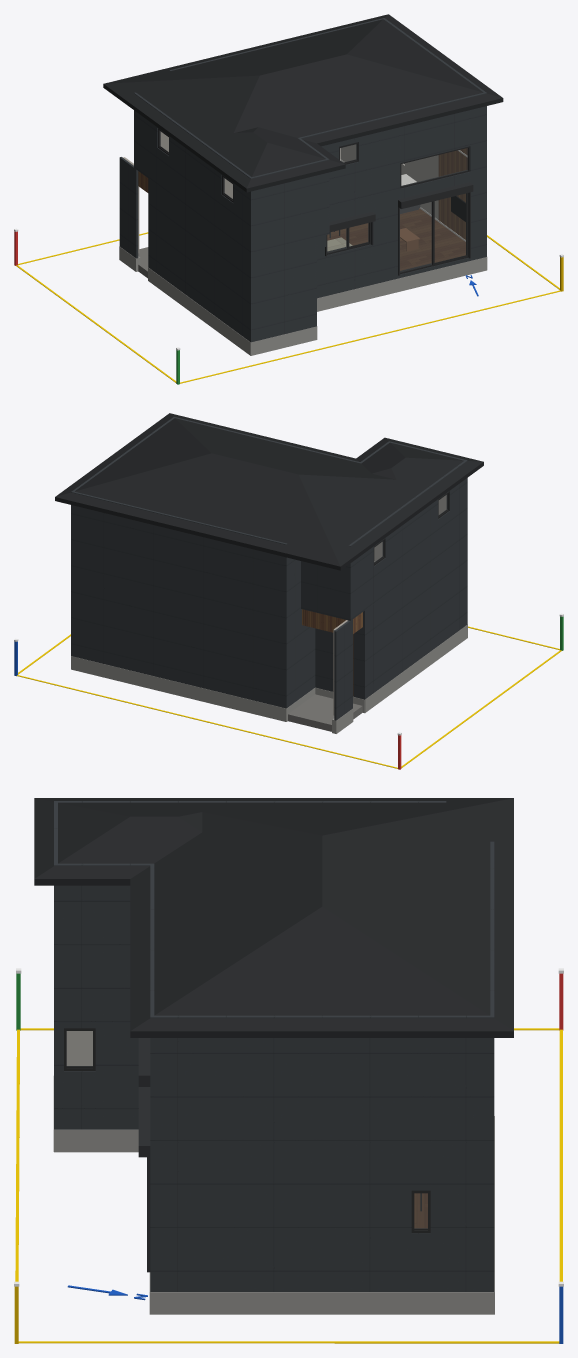
The picture shows the model from 3 angles, top to bottom: view 1: azimuth 30°, elevation 25°; view 2: azimuth 150°, elevation 25°; view 3: azimuth 270°, elevation 25°; orthographic projection. The views are drawn at different scales.
Parts seen in each view (by area): view 1: siding, roof, glass, found, floor, frame, shutter, wall, lotline, accent; view 2: siding, roof, found, lotline, tile, woodceil, wall; view 3: siding, roof, found, lotline, shutter, glass, wall, frame.
Part boxes in pixels (x1,y1,x2,y2): siding: (119, 18, 486, 342); roof: (103, 14, 503, 192); glass: (160, 132, 467, 271); found: (119, 246, 487, 355); floor: (327, 208, 465, 270); frame: (158, 128, 469, 274); shutter: (325, 182, 473, 275); wall: (123, 131, 438, 253); lotline: (16, 232, 560, 383); accent: (438, 148, 467, 239); siding: (71, 417, 467, 720); roof: (55, 413, 483, 570); found: (71, 624, 467, 733); lotline: (17, 626, 561, 768); tile: (288, 694, 362, 731); woodceil: (302, 609, 362, 633); wall: (333, 495, 446, 715); siding: (54, 801, 494, 1291); roof: (34, 798, 513, 1037); found: (53, 1076, 494, 1314); lotline: (15, 1028, 562, 1343); shutter: (138, 1038, 150, 1272); glass: (67, 1031, 427, 1227); wall: (66, 1031, 92, 1065); frame: (64, 1028, 430, 1233).
Bounding box in the file's own units: 14.14 × 7.01 × 10.42.
Materials: 31 (6 with a texture image).
